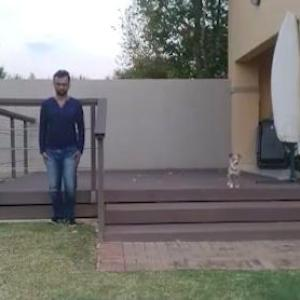follow: (38, 62, 86, 238)
